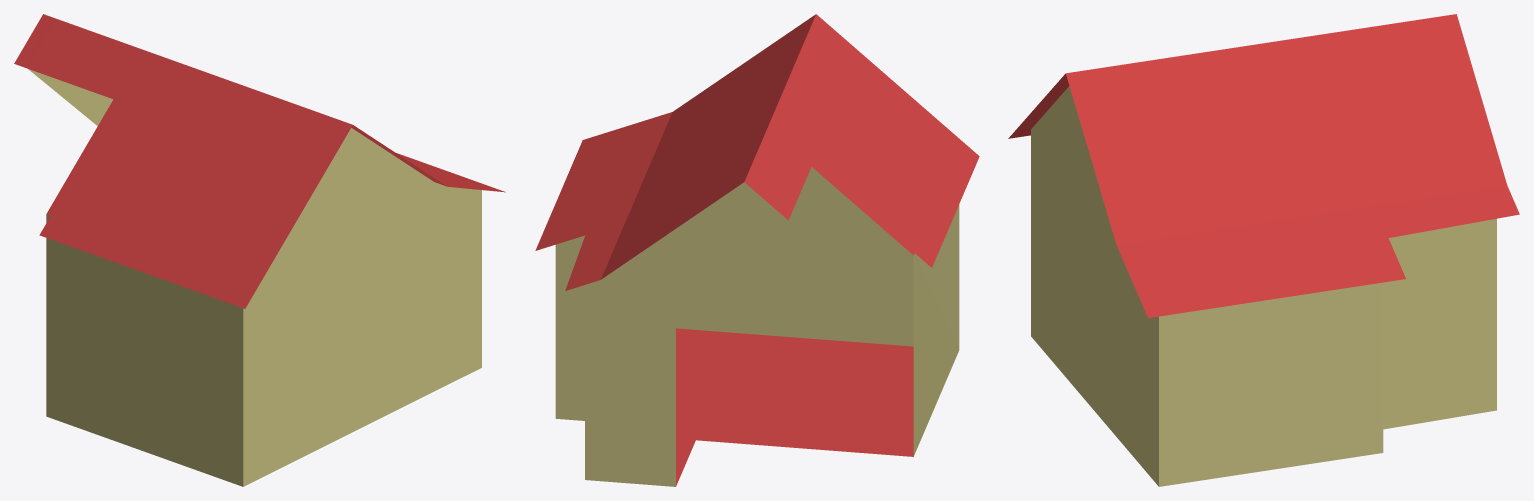
The picture shows the model from 3 angles, left to right: view 1: azimuth 30°, elevation 25°; view 2: azimuth 150°, elevation 25°; view 3: azimuth 270°, elevation 25°; orthographic projection. The views are drawn at different scales.
Bounding box in the file's own units: 20.15 × 21.34 × 15.01.
